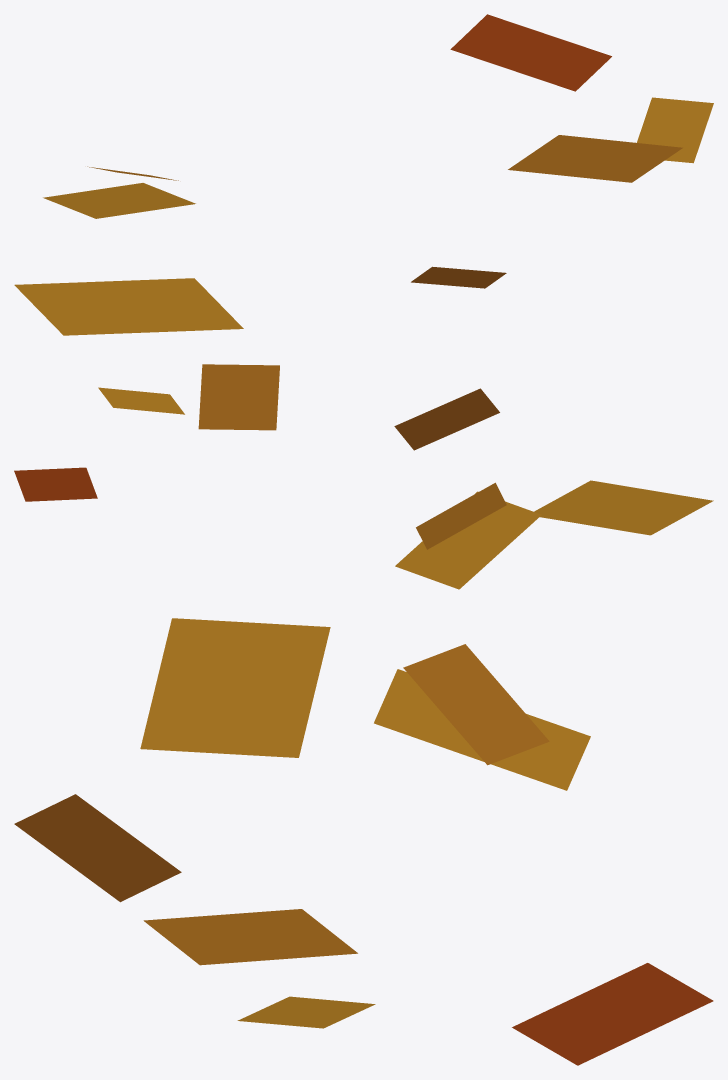
File: GroundCover_DeadLeaves_02.glb
3 views of the same model, one above another, from view 1: azimuth 30°, elevation 25°; view 2: azimuth 150°, elevation 25°; view 3: azimuth 270°, elevation 25° (orthographic). The views are drawn at different scales.
Parts seen in each view (by area): view 1: GroundCover_DeadLeaves_02; view 2: GroundCover_DeadLeaves_02; view 3: GroundCover_DeadLeaves_02.
Boxes of the visible parts, left/top/right/bottom form: GroundCover_DeadLeaves_02: left=14, top=14, right=713, bottom=335; GroundCover_DeadLeaves_02: left=14, top=364, right=713, bottom=589; GroundCover_DeadLeaves_02: left=14, top=618, right=713, bottom=1065.
Size of the model in its own units: 0.4472 by 0.0434 by 0.3088.
